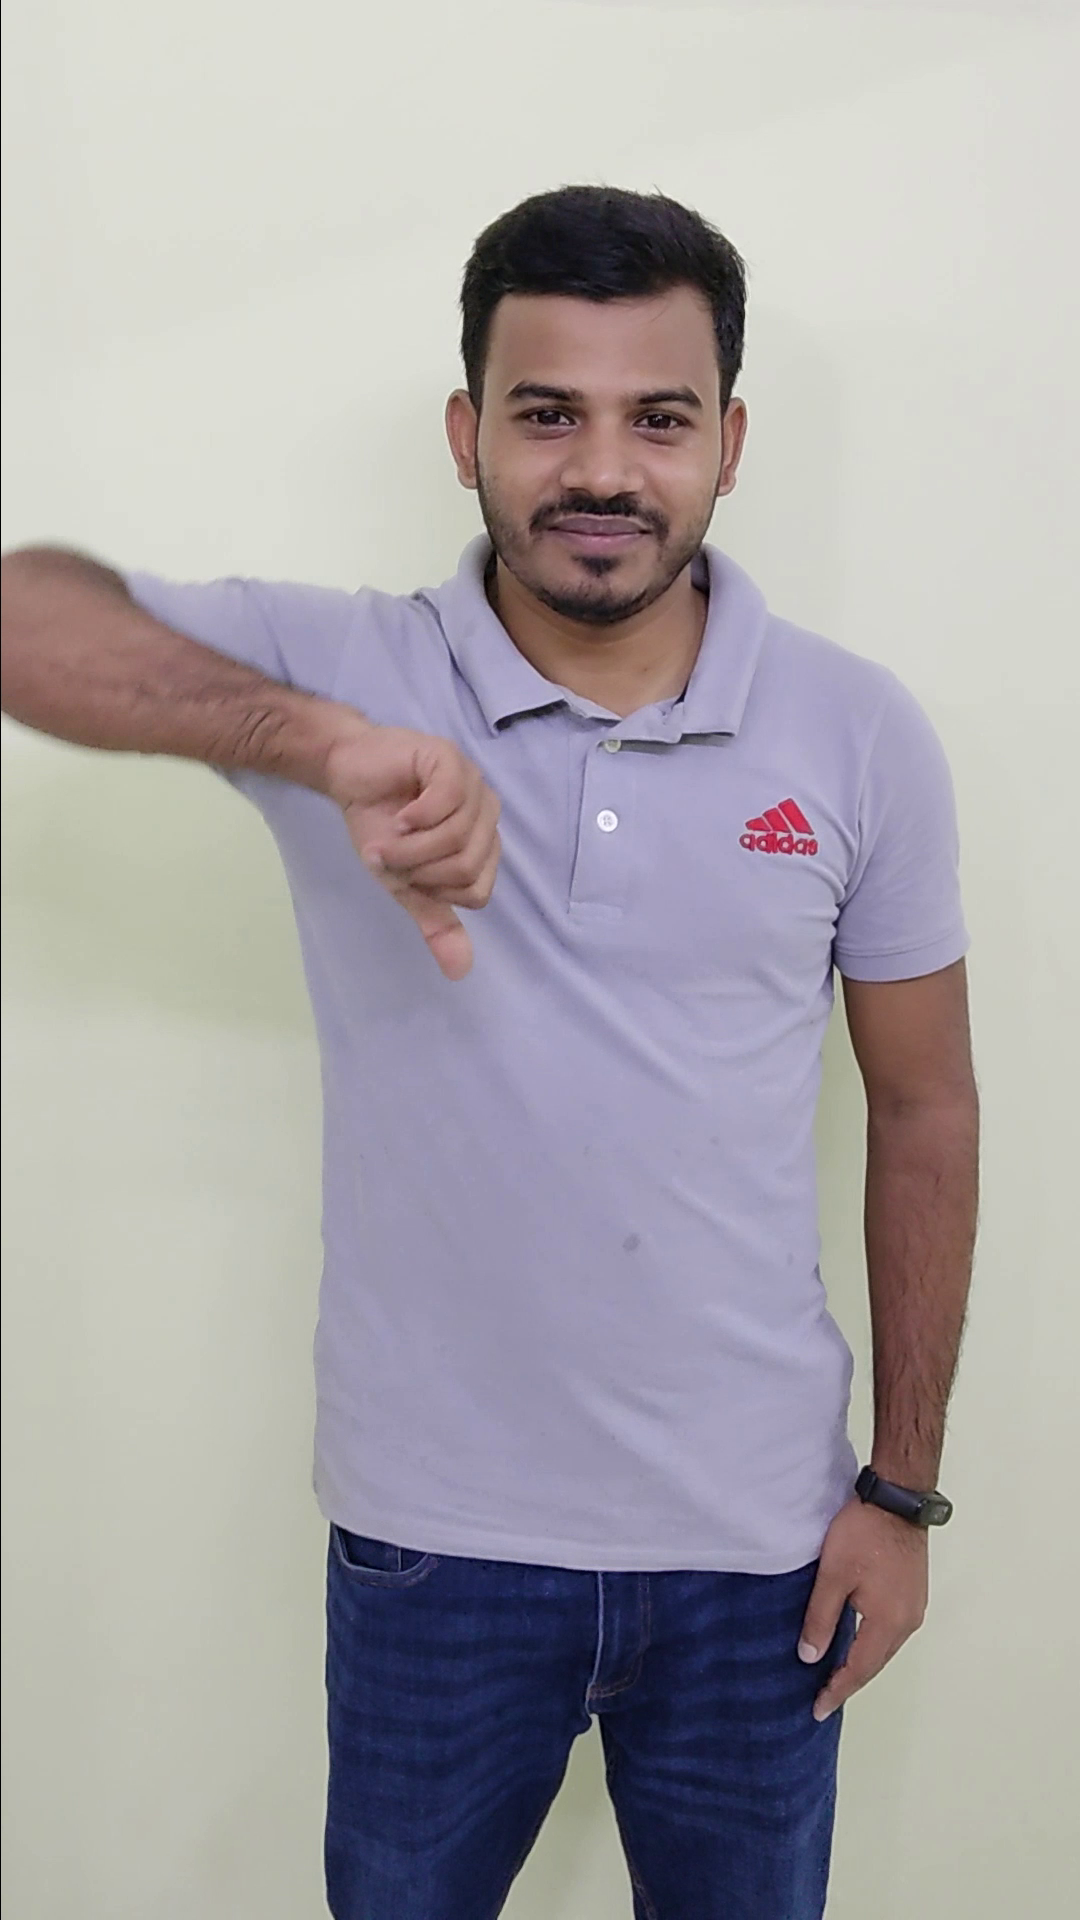Dislike: (306, 667, 524, 997)
None: (785, 1437, 963, 1733)
